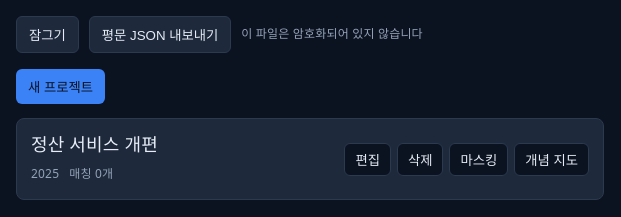
it: ResumeView — unlocked toolbar › locks the vault and stops rendering the unlocked toolbar/projects
This screenshot has width=621, height=217.
Click the button "잠그기" at (47, 34), box [16, 16, 79, 53]
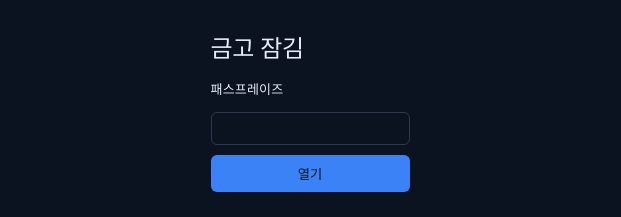
Expected: the button "잠그기" is gone
Expected: the button "평문 JSON 내보내기" is gone
Expected: the text "정산 서비스 개편" is gone
